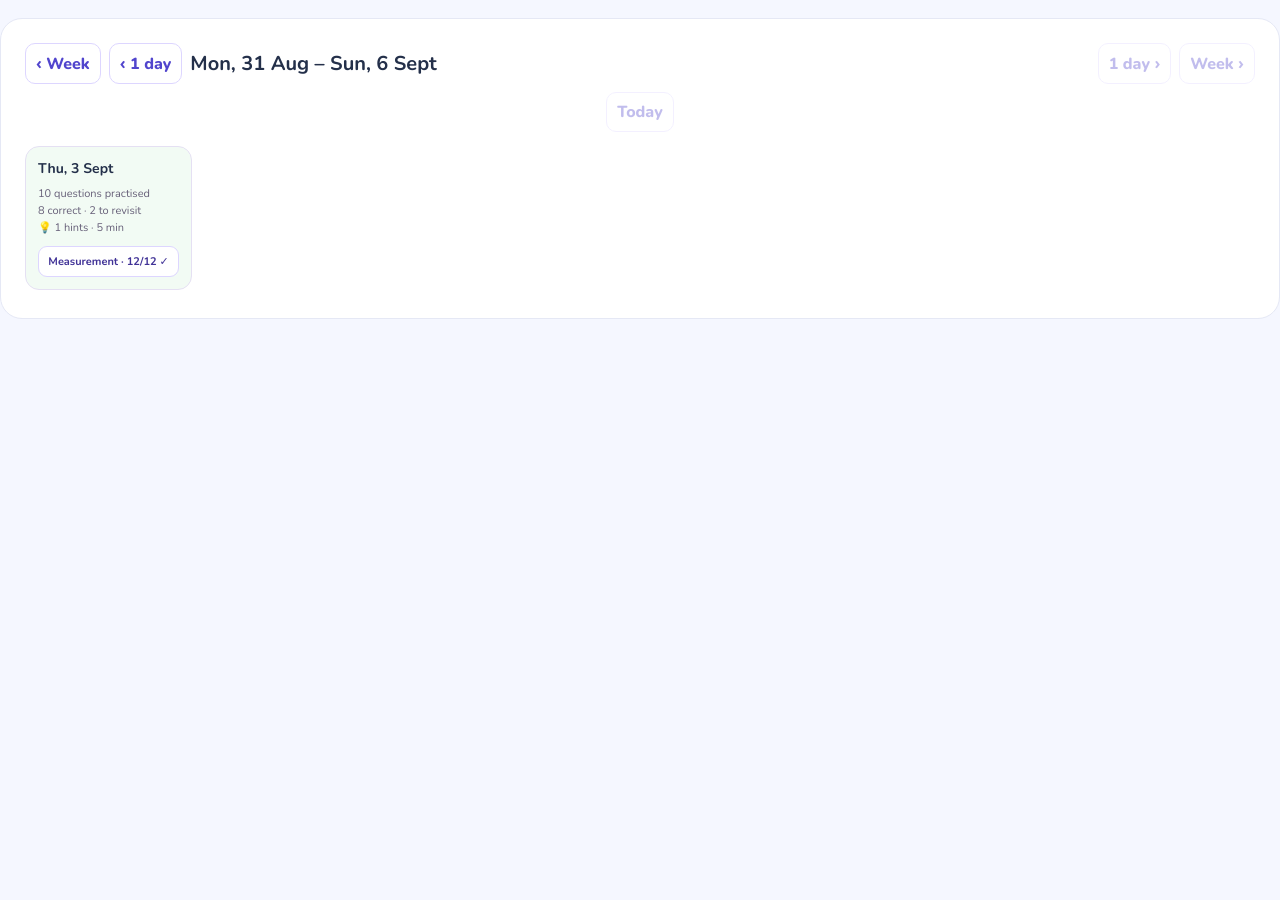
Test: student learning foundation › opens a completed calendar worksheet in read-only review instead of the active worksheet flow
Click the button with aria-label "Measurement, completed".
click(109, 262)  # box [38,246,179,277]
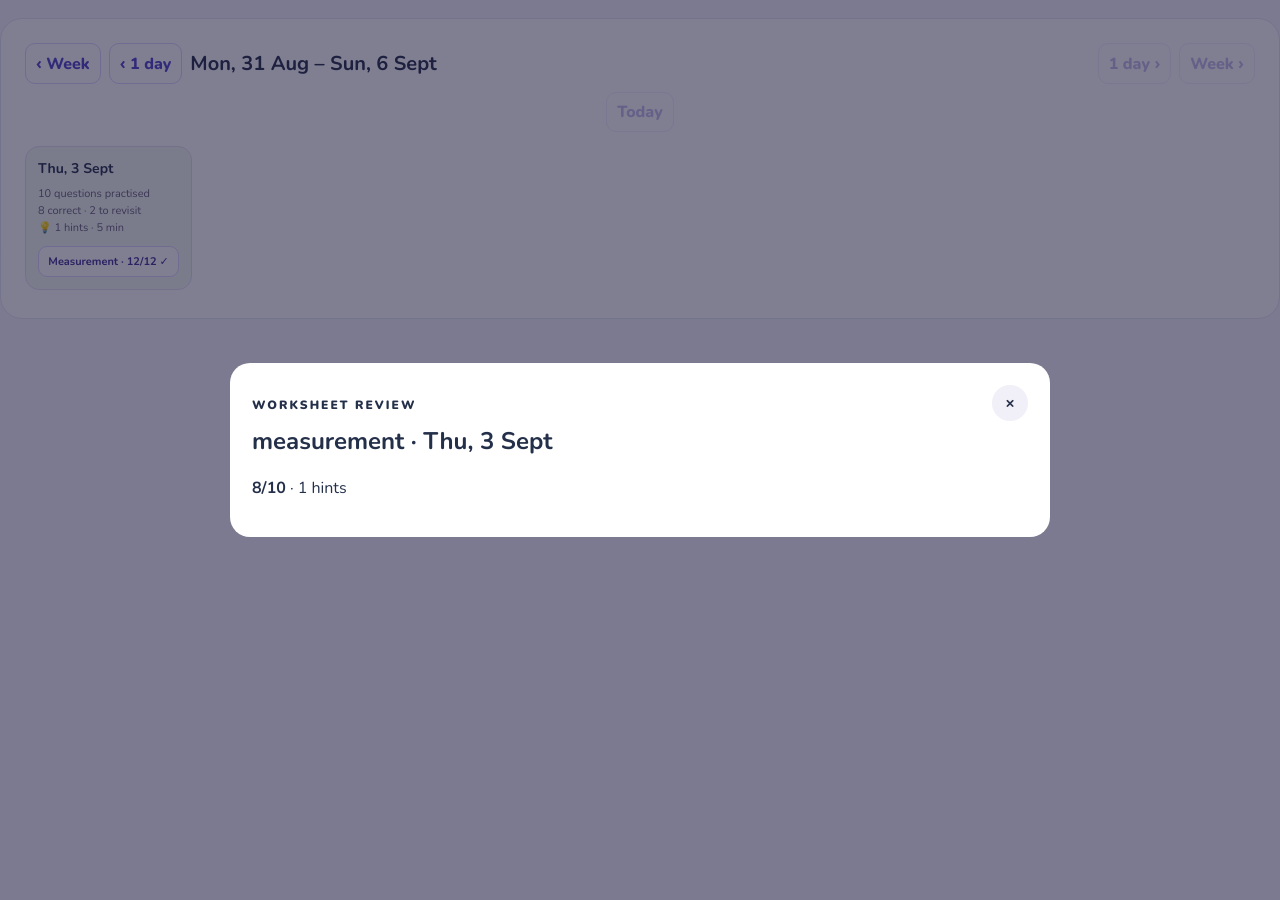
Check: the dialog "× WORKSHEET REVIEW measurement · Thu, 3 Sept 8/10 · 1 hints" is shown, box [230,363,1050,537]
